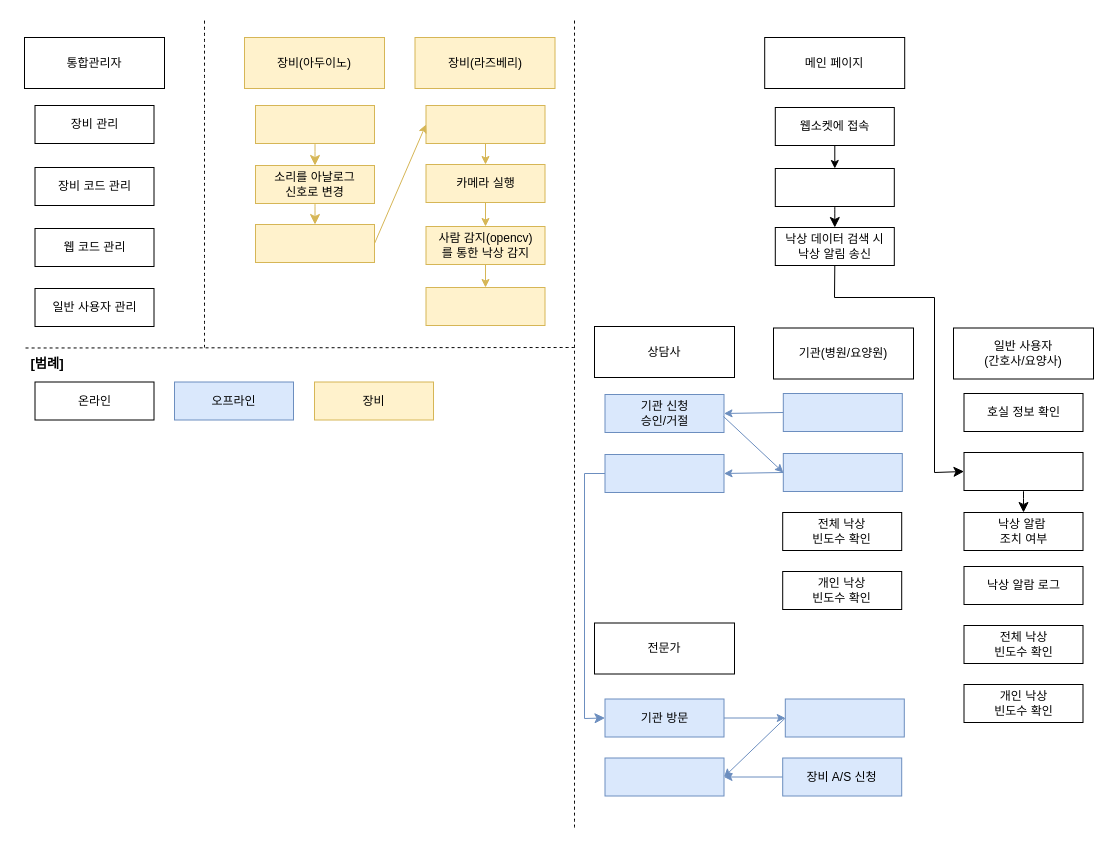
The diagram is 1111 pixels wide and 846 high, and some of its shapes have lost their labels. The centre of each missing label's shape, as x and y in pixels:
DB 데이터 검색: the point at 834,187
기관 방문 예약: the point at 664,473
기관 신청 승인 여부: the point at 842,472
기관 신청(유선): the point at 842,412
낙상 알람 확인: the point at 1023,471
데이터 DB에 저장: the point at 485,306
데이터 수신: the point at 485,124
소리 센서로 소리 강도 감지: the point at 314,124
시리얼 통신으로 데이터 전송: the point at 314,243
장비 설치 및 수거: the point at 664,776
장비 설치 회의: the point at 844,717
